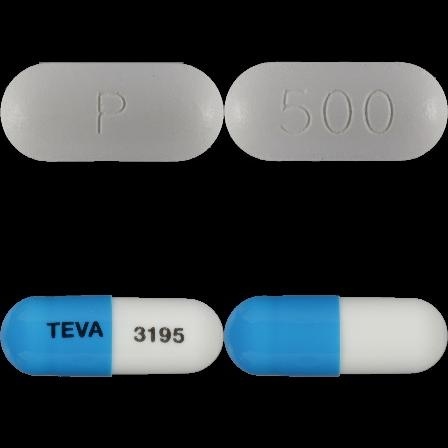63187-017: (0, 0, 224, 224)
